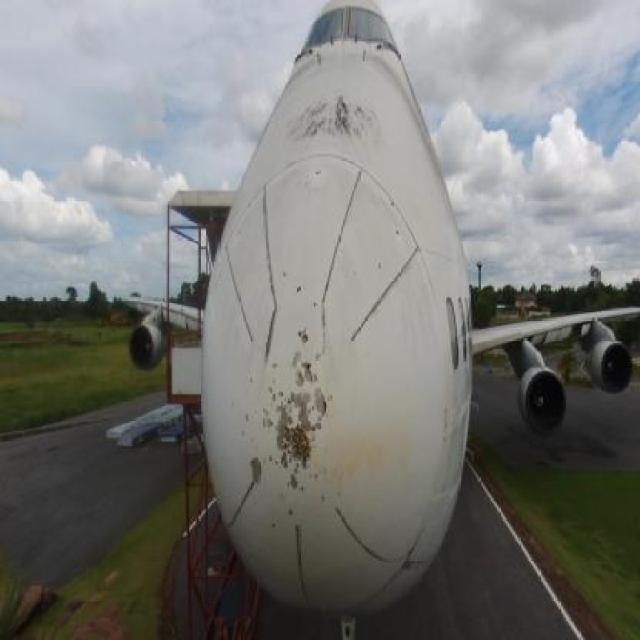Rust: (291, 78, 383, 165), (334, 420, 418, 483), (280, 416, 322, 470)
Scartch: (260, 376, 343, 484), (239, 438, 270, 496), (398, 544, 422, 585)
